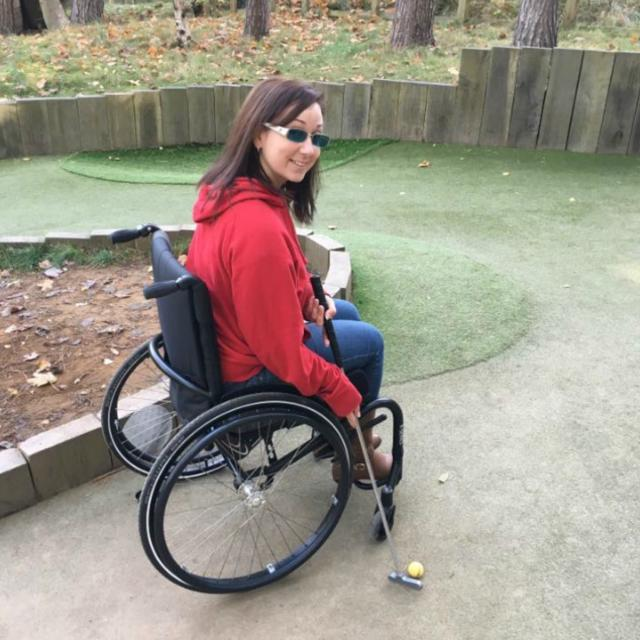wheelchairs: (103, 217, 426, 596)
